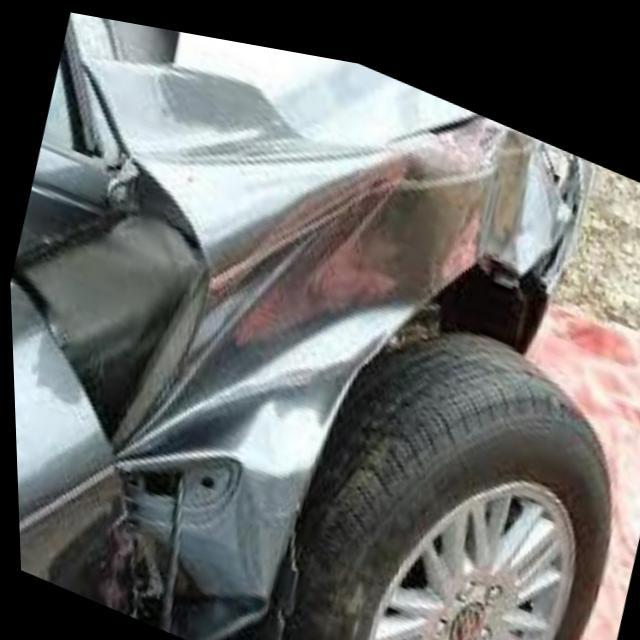dent: (8, 19, 594, 640)
